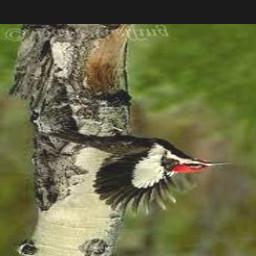Woodpecker: (41, 127, 231, 216)
